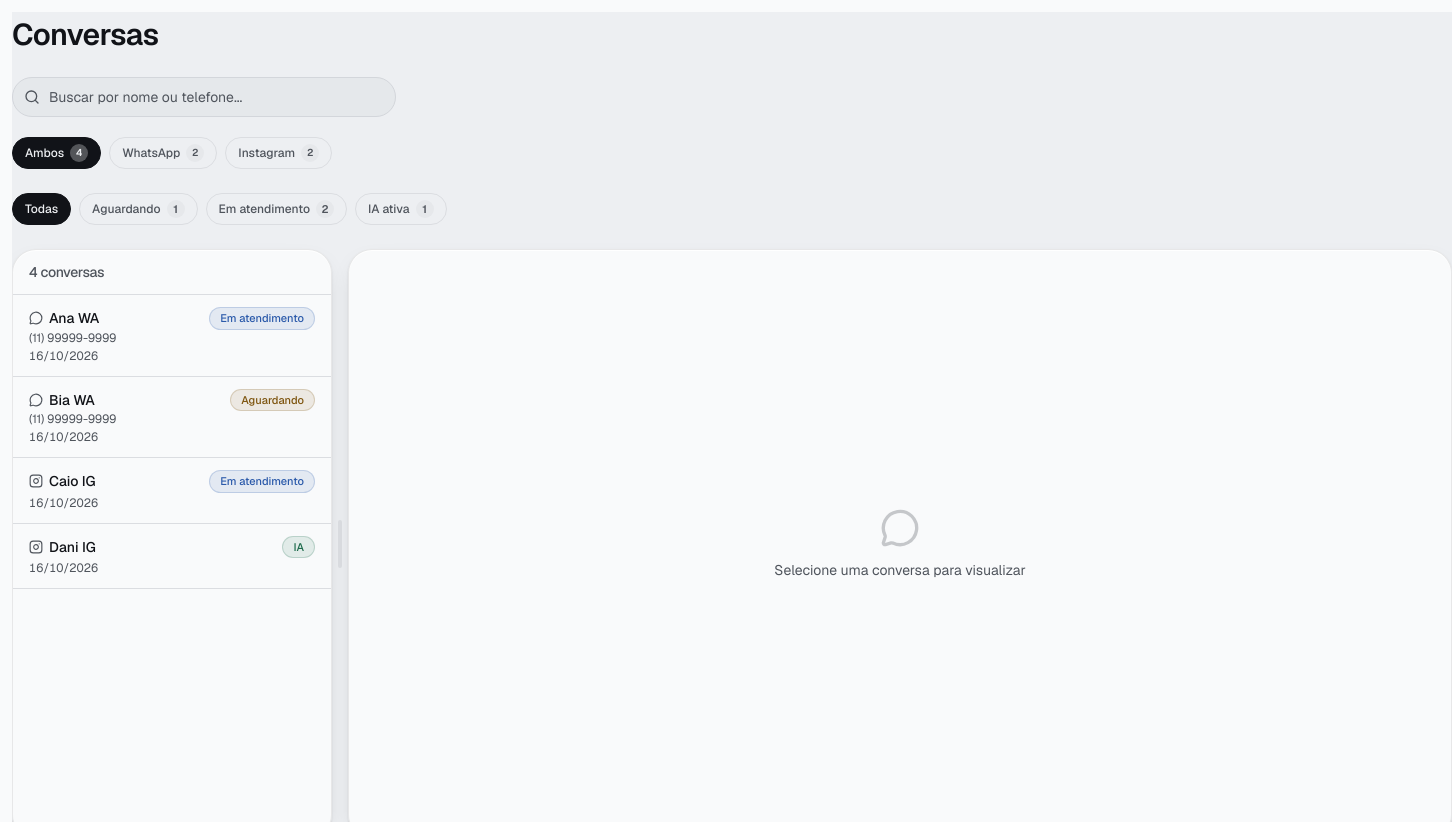
Test case: Conversas por canal: filtro e contagens › chip Instagram filtra a lista e combina com o chip de status
The image size is (1452, 822).
Click the button with test id "channel-chip-instagram": coordinates (279, 153) [225,137,332,169]
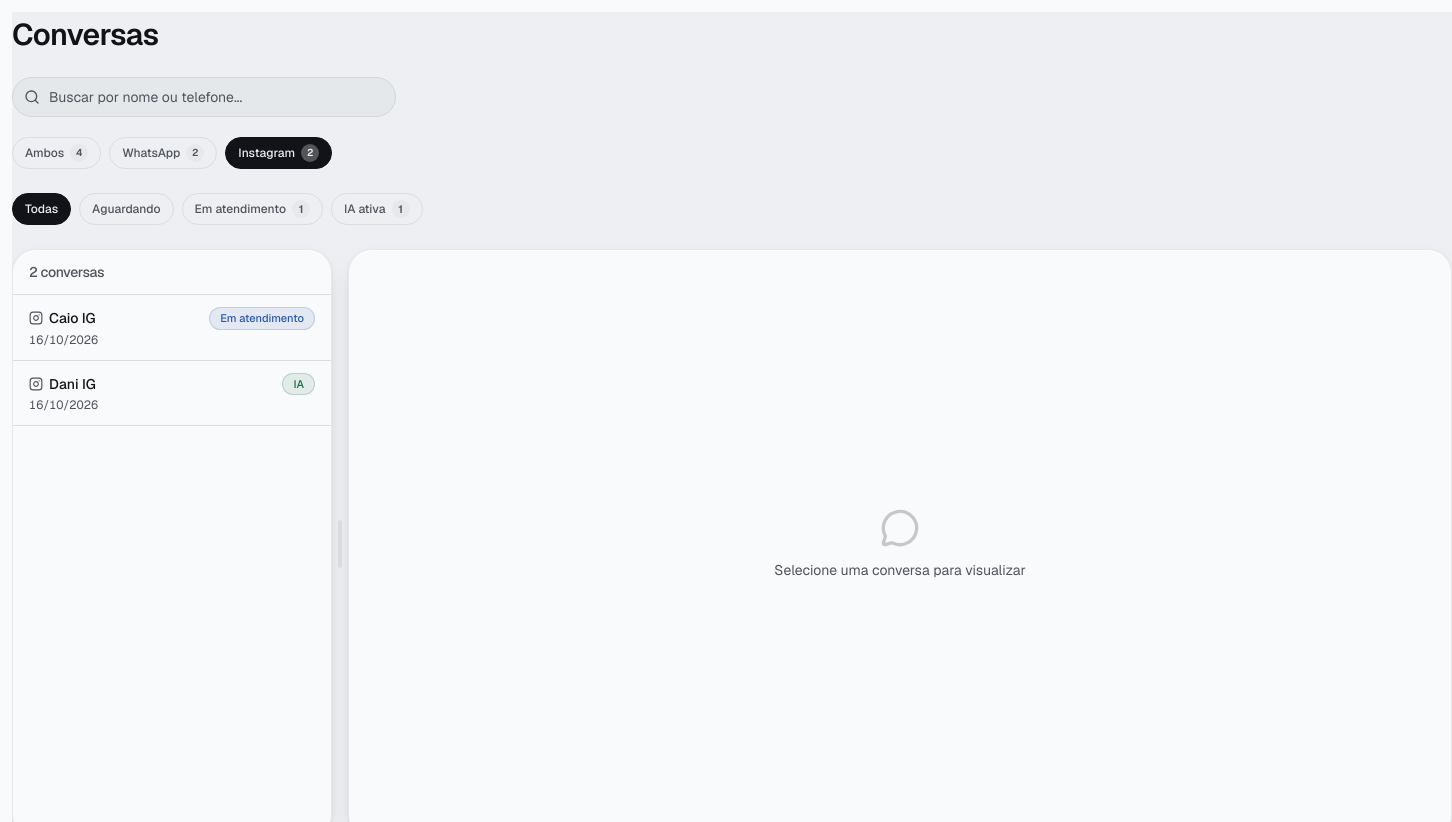
Expected: the text "Caio IG" is shown, [49,308,96,328]
Now the button "Ana WA" is gone
Click the button "Em atendimento 1": coordinates (252, 209) [182,193,323,225]
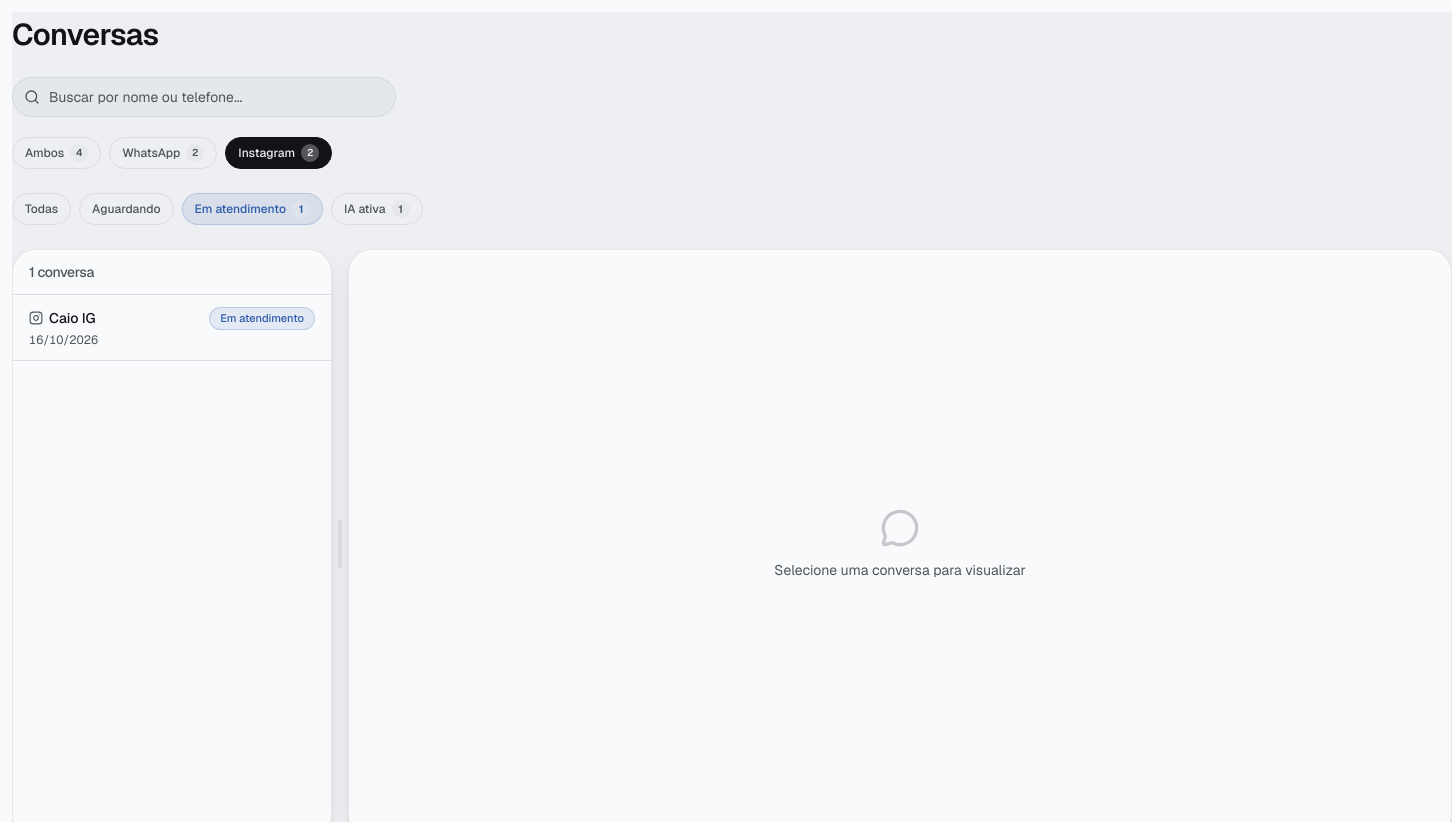
Expected: the text "Caio IG" is shown, [49,308,96,328]
Now the button "Dani IG" is gone
